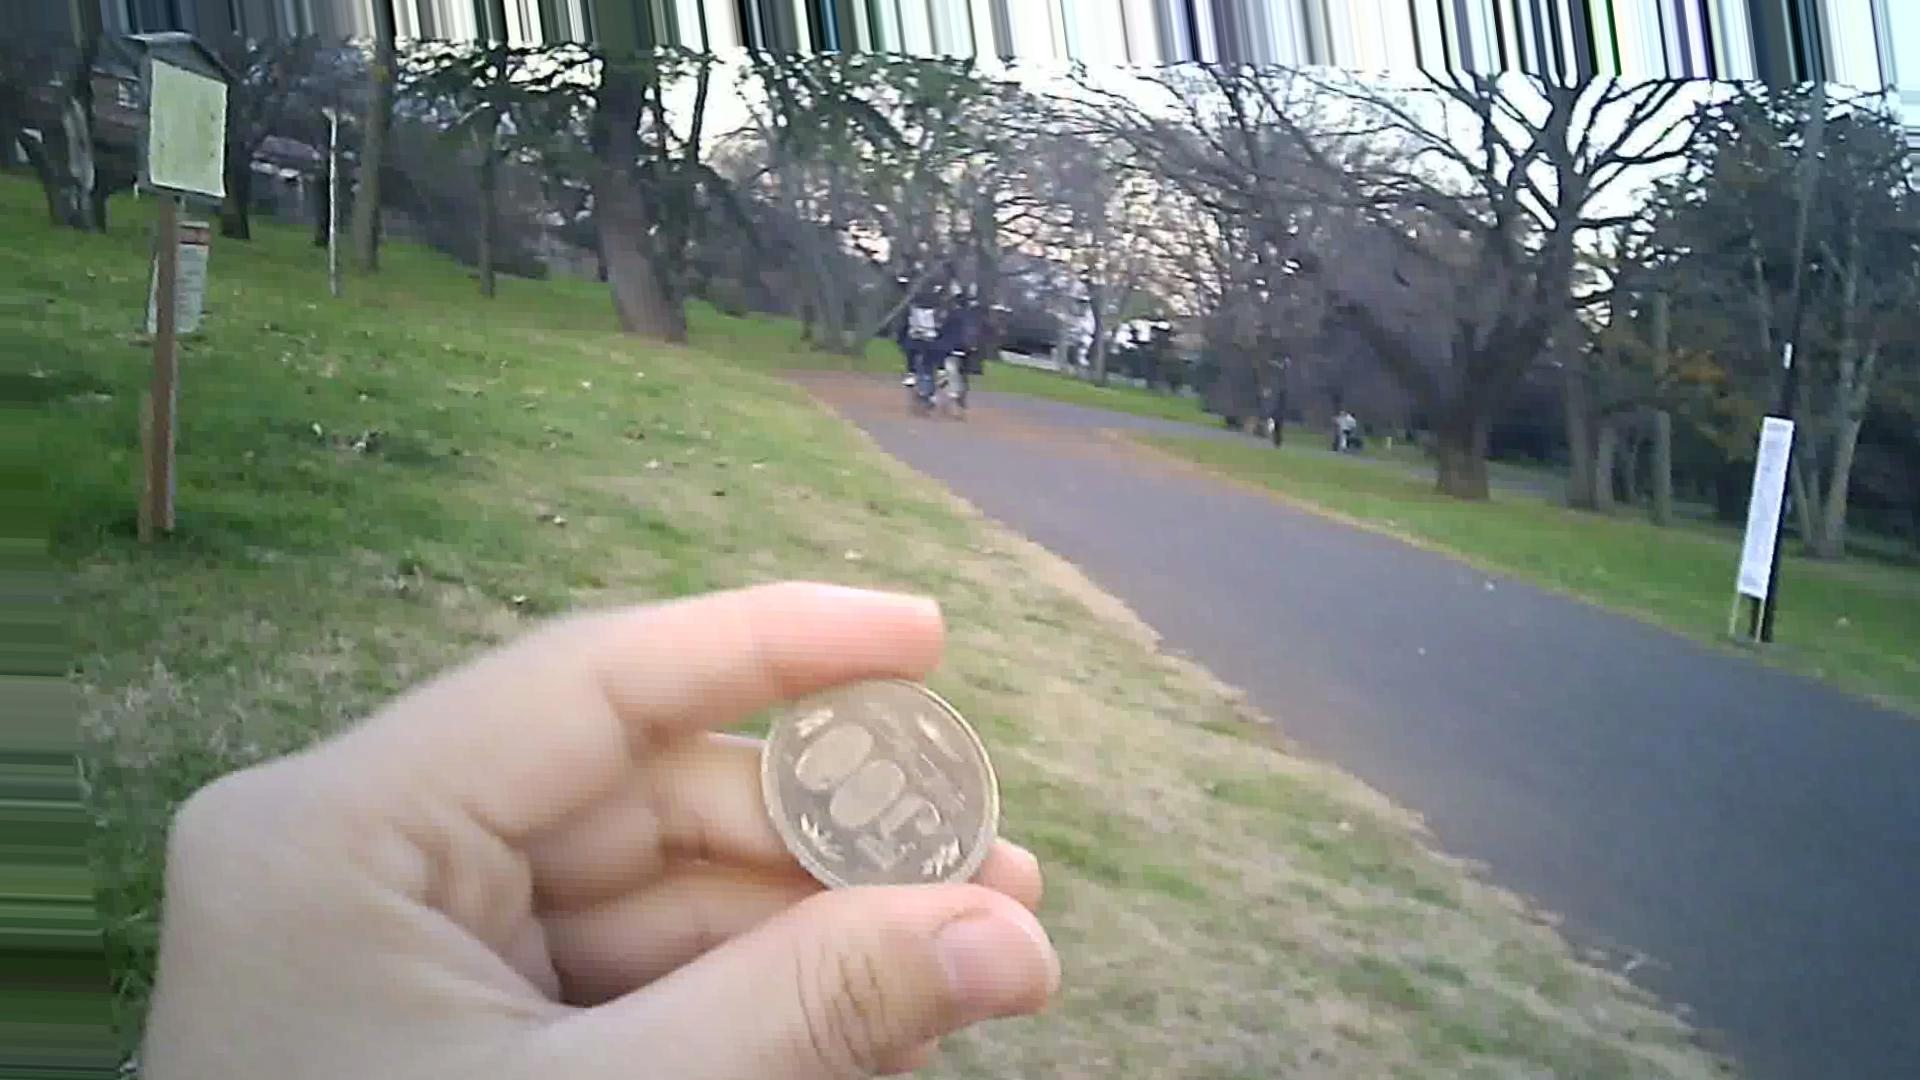500 Yen: (752, 665, 1000, 902)
